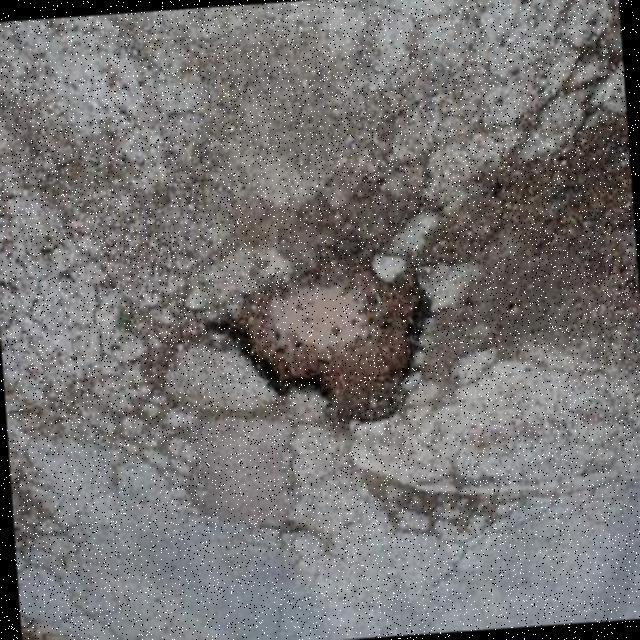Pothole: (207, 252, 428, 422)
